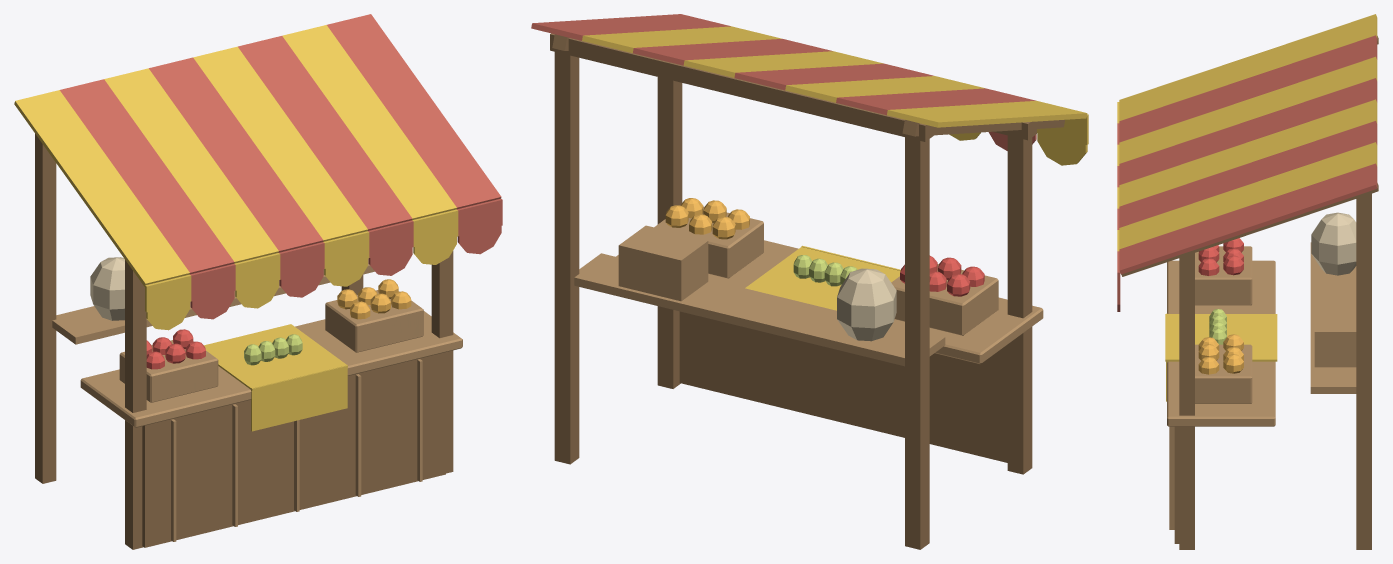
The model's file is market_stall_gold.glb.
3 views of the same model, side by side, from view 1: azimuth 30°, elevation 25°; view 2: azimuth 150°, elevation 25°; view 3: azimuth 270°, elevation 25° (orthographic). The views are drawn at different scales.
Parts seen in each view (by area): view 1: market_stall_gold; view 2: market_stall_gold; view 3: market_stall_gold.
Boxes of the visible parts, x1=… form: market_stall_gold: x1=14, y1=14, x2=502, y2=549; market_stall_gold: x1=531, y1=14, x2=1088, y2=549; market_stall_gold: x1=1117, y1=14, x2=1378, y2=549.
Size of the model in its own units: 2.6 by 2.65 by 1.68.
